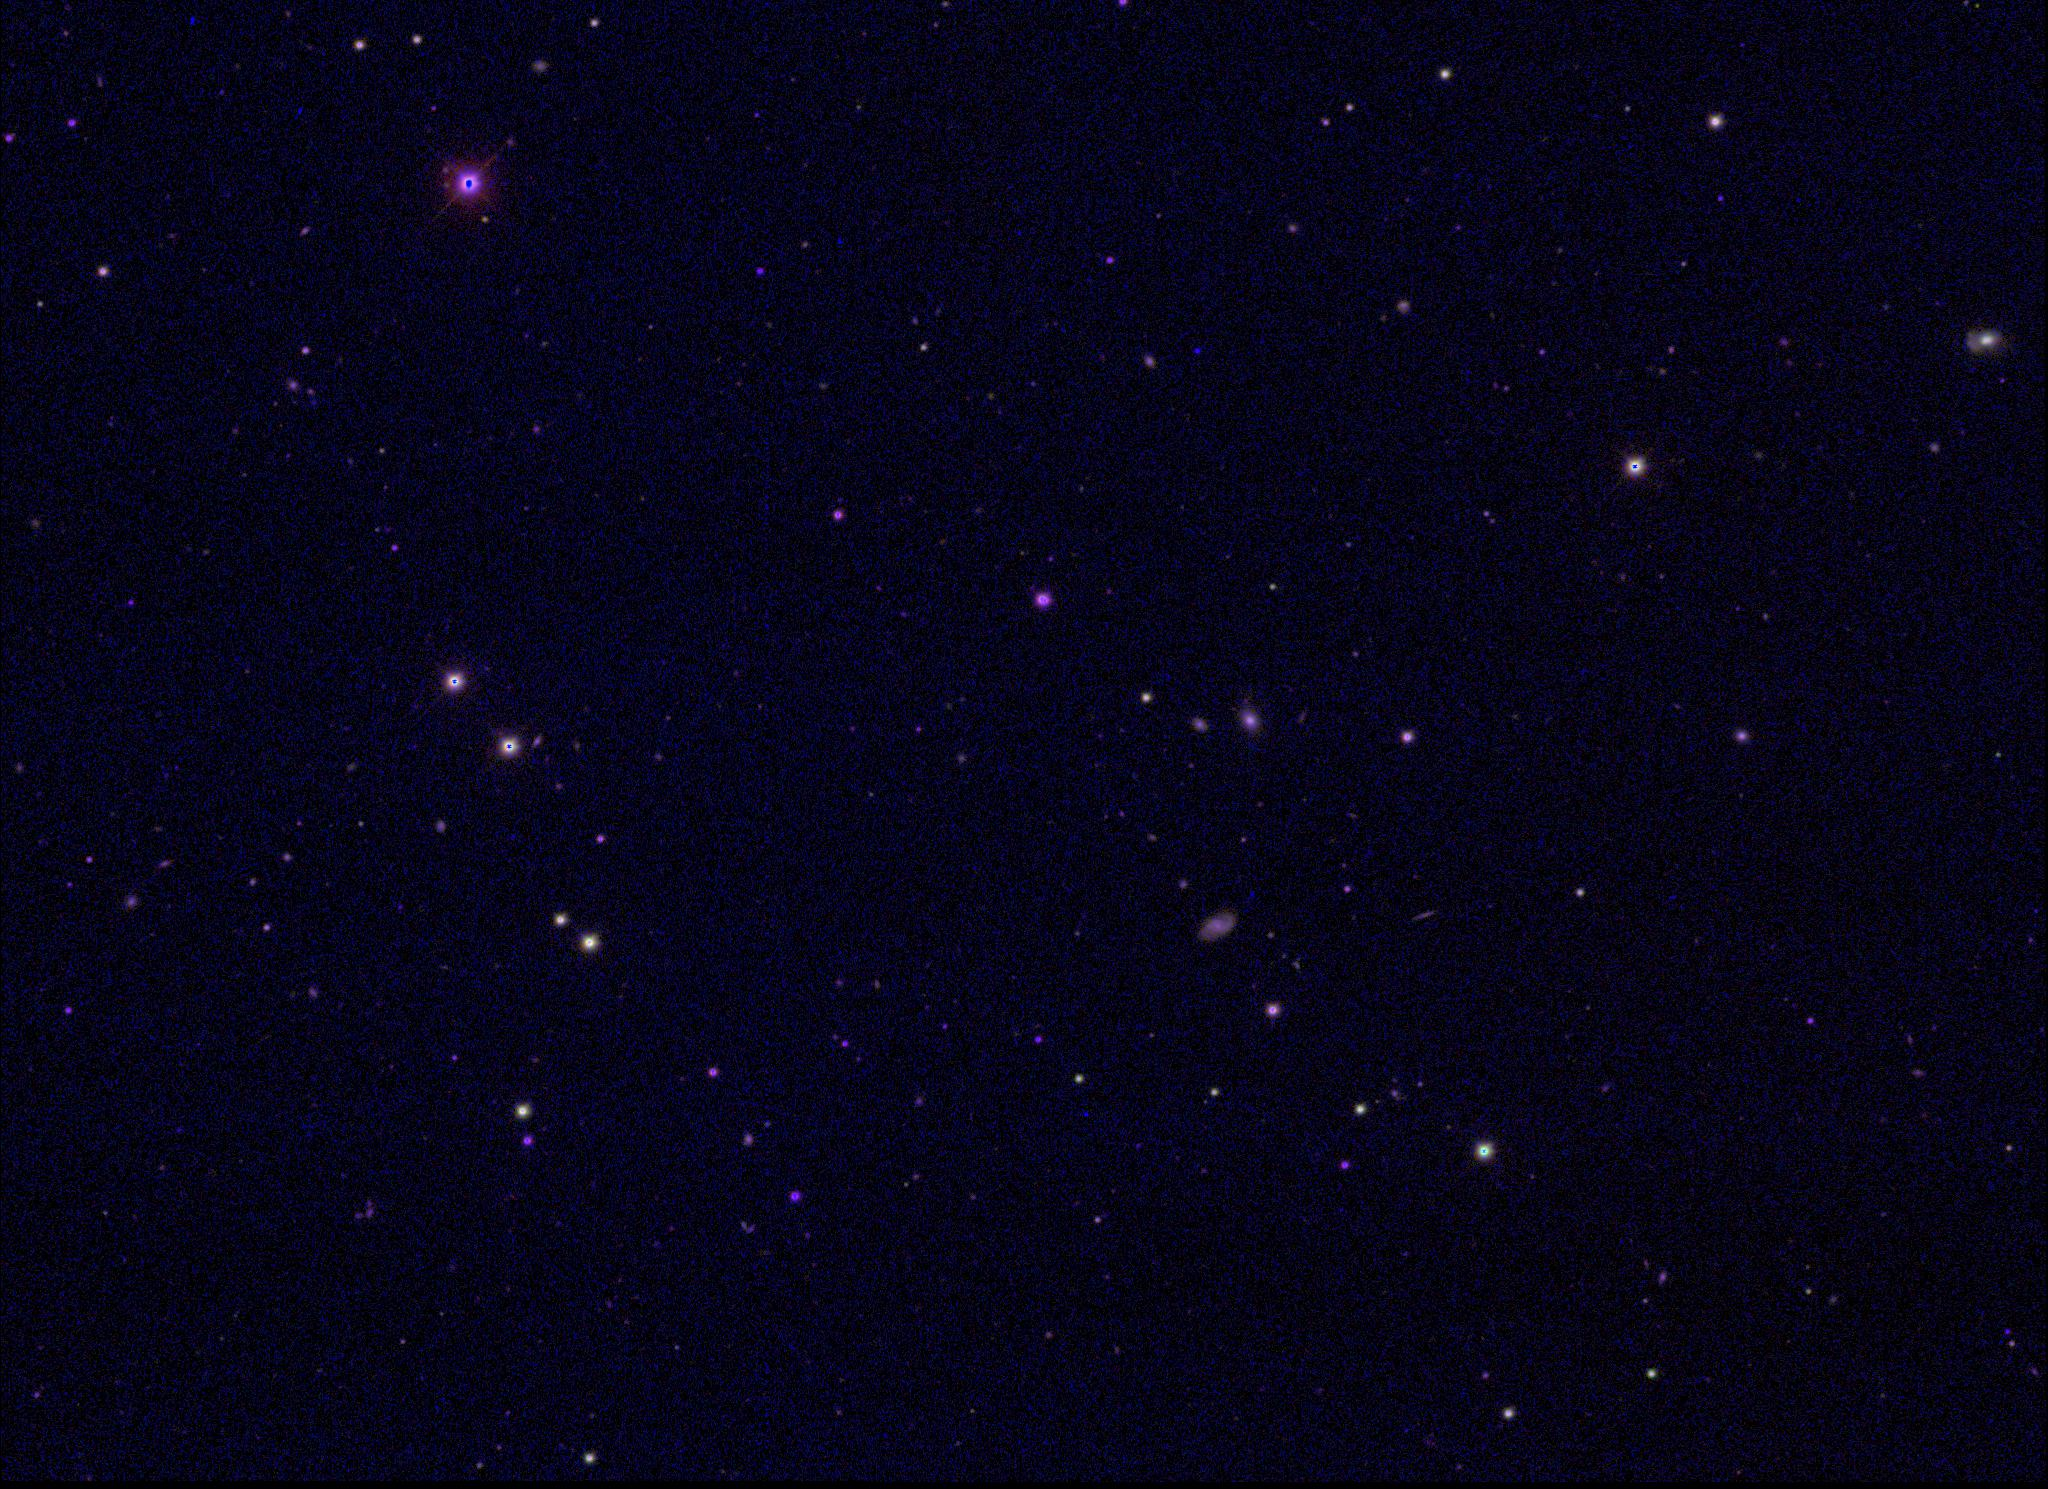L: (1188, 344, 1202, 356)
